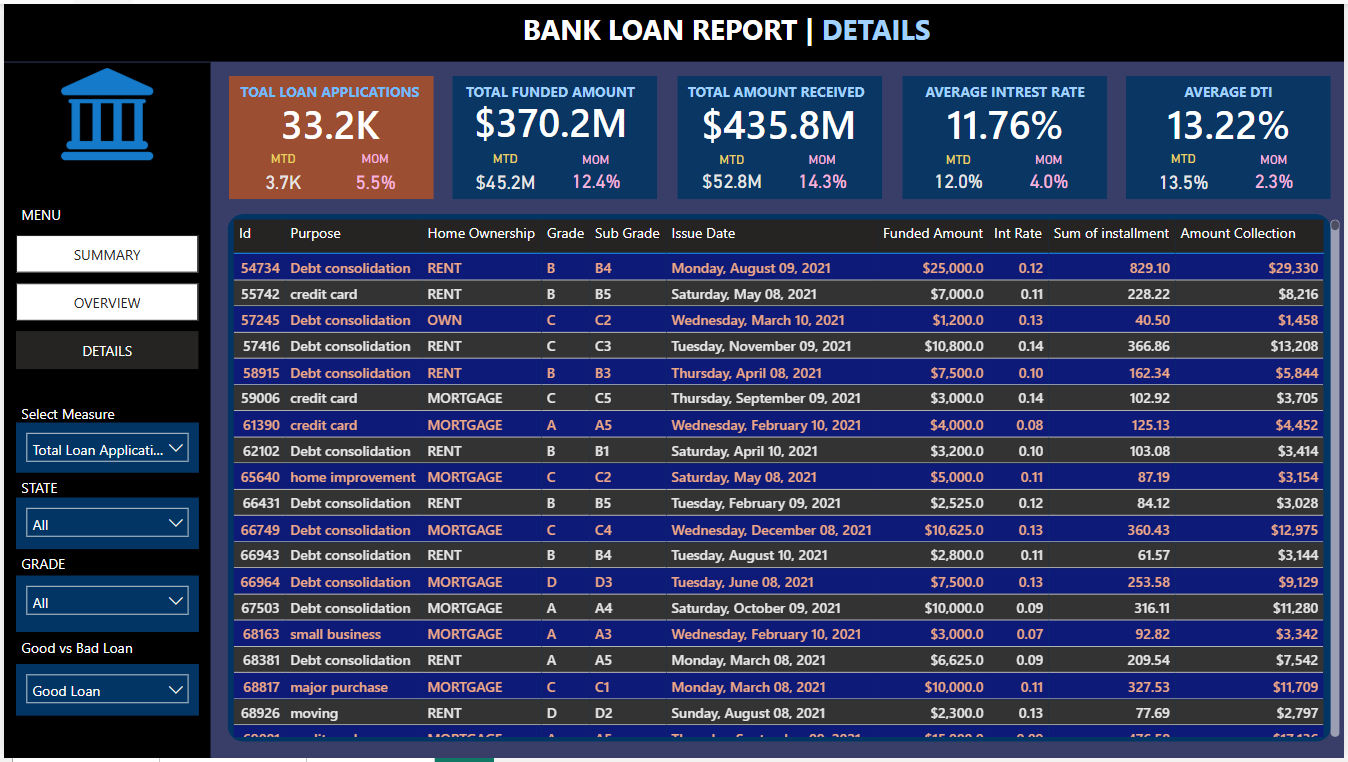

This screenshot's page, from the dashboard's own definition file:
{"tool":"powerbi","page":{"name":"DETAILS","canvas":[1280,720],"ordinal":2},"visuals":[{"type":"shape","box":[0,0,1280.4,55],"z":0},{"type":"shape","box":[0,55.7,197.2,664.9],"z":1000},{"type":"textbox","box":[456.5,0,466,55.7],"z":2000},{"type":"shape","box":[214.7,68.4,195.6,117.7],"z":3000},{"type":"textbox","box":[213.1,68.4,195.6,30.2],"z":4000},{"type":"card","fields":{"Values":["bank_loan_data.Total Loan Applications"]},"box":[213.1,85.9,195.6,55.7],"z":5000},{"type":"card","title":"MTD","fields":{"Values":["bank_loan_data.MTD Loan Applications"]},"box":[222.7,140,89.1,46.1],"z":6000},{"type":"card","title":"MOM","fields":{"Values":["bank_loan_data.MOM Loan Applications"]},"box":[311.8,140,84.3,46.1],"z":7000},{"type":"shape","box":[427.9,68.4,195.6,117.7],"z":8000},{"type":"shape","box":[642.6,68.4,195.6,117.7],"z":9000},{"type":"shape","box":[857.3,68.4,195.6,117.7],"z":10000},{"type":"shape","box":[1072.1,68.4,195.6,117.7],"z":11000},{"type":"textbox","box":[424.7,68.4,195.6,30.2],"z":12000},{"type":"card","fields":{"Values":["bank_loan_data.Total Funded Amount"]},"box":[424.7,84.3,195.6,55.7],"z":13000},{"type":"card","title":"MTD","fields":{"Values":["bank_loan_data.MTD Funded Amount"]},"box":[434.2,140,89.1,46.1],"z":14000},{"type":"card","title":"MTD","fields":{"Values":["bank_loan_data.MTD Total Amount Received"]},"box":[650.6,141.6,89.1,41.4],"z":15000},{"type":"card","title":"MTD","fields":{"Values":["bank_loan_data.MTD Avg Intrest Rate"]},"box":[866.9,141.6,89.1,41.4],"z":16000},{"type":"card","title":"MTD","fields":{"Values":["bank_loan_data.MTD Avg DTI"]},"box":[1081.6,140,89.1,46.1],"z":17000},{"type":"card","title":"MOM","fields":{"Values":["bank_loan_data.MOM Funded Amount"]},"box":[523.3,141.6,84.3,41.4],"z":18000},{"type":"card","title":"MOM","fields":{"Values":["bank_loan_data.MOM Total Amount Received"]},"box":[739.6,141.6,84.3,41.4],"z":19000},{"type":"card","title":"MOM","fields":{"Values":["bank_loan_data.MOM Avg Interest Rate"]},"box":[956,141.6,84.3,41.4],"z":20000},{"type":"card","title":"MOM","fields":{"Values":["bank_loan_data.MOM AVG DTI"]},"box":[1170.7,141.6,84.3,41.4],"z":21000},{"type":"card","fields":{"Values":["bank_loan_data.Total Amount Received"]},"box":[641,85.9,195.6,55.7],"z":22000},{"type":"card","fields":{"Values":["bank_loan_data.Avg Intrest Rate"]},"box":[857.3,85.9,195.6,55.7],"z":23000},{"type":"card","fields":{"Values":["bank_loan_data.AVG DTI"]},"box":[1072.1,85.9,195.6,55.7],"z":24000},{"type":"textbox","box":[639.4,68.4,197.2,30.2],"z":25000},{"type":"textbox","box":[857.3,68.4,195.6,30.2],"z":26000},{"type":"textbox","box":[1072.1,68.4,195.6,30.2],"z":27000},{"type":"shape","box":[213.1,200.4,1054.6,504.2],"z":28000},{"type":"image","box":[27,55.7,143.2,98.6],"z":29000},{"type":"slicer","fields":{"Values":["bank_loan_data.address_state"]},"box":[11.1,470.8,175,49.3],"z":30000},{"type":"slicer","fields":{"Values":["bank_loan_data.grade"]},"box":[11.1,545.6,175,54.1],"z":31000},{"type":"slicer","fields":{"Values":["bank_loan_data.Good Vs Bad Loan"]},"box":[11.1,629.9,175,49.3],"z":32000},{"type":"textbox","box":[11.1,520.1,74.8,38.2],"z":33000},{"type":"textbox","box":[11.1,599.7,120.9,55.7],"z":34000},{"type":"pageNavigator","box":[11.1,221.1,175,130.4],"z":35000},{"type":"textbox","box":[11.1,186.1,175,47.7],"z":36000},{"type":"slicer","fields":{"Values":["Select Measure.Select Measure"]},"box":[11.1,399.2,175,47.7],"z":37000},{"type":"textbox","box":[11.1,377,120.9,33.4],"z":38000},{"type":"textbox","box":[11.1,447,63.6,49.3],"z":39000},{"type":"tableEx","fields":{"Values":["bank_loan_data.id","bank_loan_data.purpose","bank_loan_data.home_ownership","bank_loan_data.grade","bank_loan_data.sub_grade","bank_loan_data.issue_date","bank_loan_data.Total Funded Amount","Sum(bank_loan_data.int_rate)","Sum(bank_loan_data.installment)","bank_loan_data.Total Amount Received"]},"box":[213.1,200.4,1067.3,504.2],"z":40000}]}

Visuals, with their boxes in screenshot pixels (x1, y1, x2, y2), scaled from the page's 1280x720 canvas onto the 1348x762 screenshot:
shape: locate(0, 0, 1347, 58)
shape: locate(0, 59, 208, 761)
textbox: locate(481, 0, 972, 59)
shape: locate(226, 72, 432, 197)
textbox: locate(224, 72, 430, 104)
card - bank_loan_data.Total Loan Applications: locate(224, 91, 430, 150)
"MTD" card: locate(235, 148, 328, 197)
"MOM" card: locate(328, 148, 417, 197)
shape: locate(451, 72, 657, 197)
shape: locate(677, 72, 883, 197)
shape: locate(903, 72, 1109, 197)
shape: locate(1129, 72, 1335, 197)
textbox: locate(447, 72, 653, 104)
card - bank_loan_data.Total Funded Amount: locate(447, 89, 653, 148)
"MTD" card: locate(457, 148, 551, 197)
"MTD" card: locate(685, 150, 779, 194)
"MTD" card: locate(913, 150, 1007, 194)
"MTD" card: locate(1139, 148, 1233, 197)
"MOM" card: locate(551, 150, 640, 194)
"MOM" card: locate(779, 150, 868, 194)
"MOM" card: locate(1007, 150, 1096, 194)
"MOM" card: locate(1233, 150, 1322, 194)
card - bank_loan_data.Total Amount Received: locate(675, 91, 881, 150)
card - bank_loan_data.Avg Intrest Rate: locate(903, 91, 1109, 150)
card - bank_loan_data.AVG DTI: locate(1129, 91, 1335, 150)
textbox: locate(673, 72, 881, 104)
textbox: locate(903, 72, 1109, 104)
textbox: locate(1129, 72, 1335, 104)
shape: locate(224, 212, 1335, 746)
image: locate(28, 59, 179, 163)
slicer - bank_loan_data.address_state: locate(12, 498, 196, 550)
slicer - bank_loan_data.grade: locate(12, 577, 196, 635)
slicer - bank_loan_data.Good Vs Bad Loan: locate(12, 667, 196, 719)
textbox: locate(12, 550, 90, 591)
textbox: locate(12, 635, 139, 694)
pageNavigator: locate(12, 234, 196, 372)
textbox: locate(12, 197, 196, 247)
slicer - Select Measure.Select Measure: locate(12, 422, 196, 473)
textbox: locate(12, 399, 139, 434)
textbox: locate(12, 473, 79, 525)
tableEx - bank_loan_data.id x bank_loan_data.purpose: locate(224, 212, 1347, 746)
